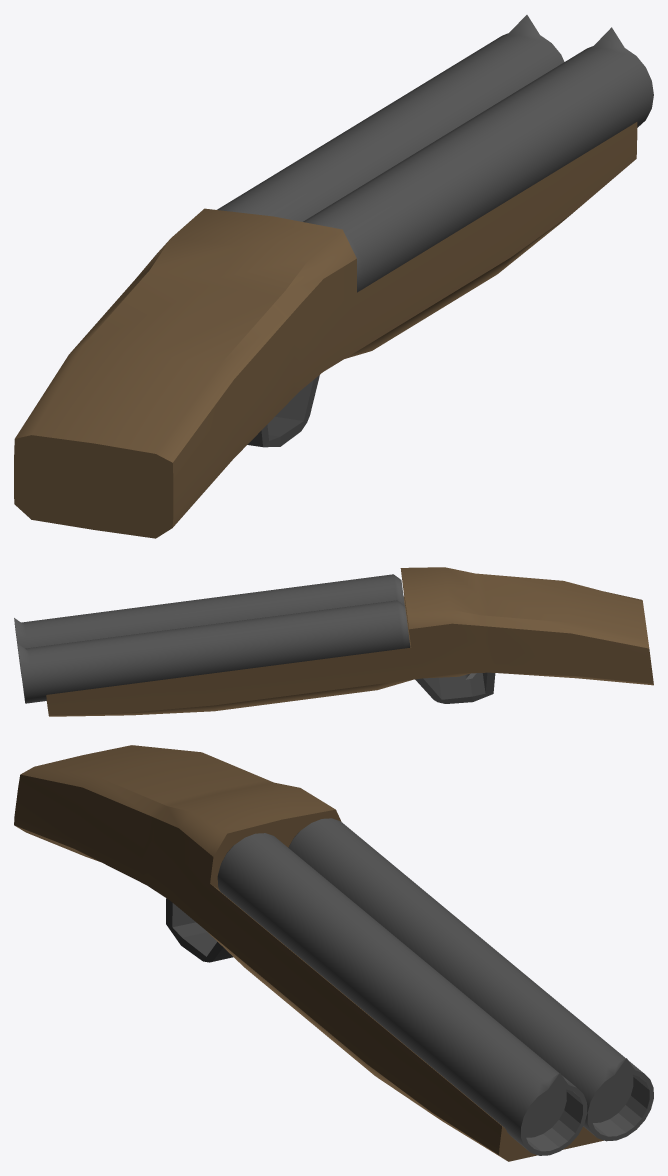
The model's file is AvaPistole.fbx.
3 renders of one model, top to bottom at view 1: azimuth 30°, elevation 25°; view 2: azimuth 150°, elevation 25°; view 3: azimuth 270°, elevation 25°, orthographic. The views are drawn at different scales.
Visible parts, largest first — view 1: pCube1, pCylinder1, pCylinder2; view 2: pCube1, pCylinder2, pCylinder1; view 3: pCube1, pCylinder1, pCylinder2.
Part boxes in pixels (x1,y1,x2,y2): pCube1: [14, 122, 637, 538]; pCylinder1: [303, 27, 653, 292]; pCylinder2: [217, 15, 564, 221]; pCube1: [46, 567, 653, 716]; pCylinder2: [17, 600, 410, 703]; pCylinder1: [14, 574, 404, 675]; pCube1: [14, 745, 603, 1161]; pCylinder1: [217, 833, 587, 1155]; pCylinder2: [288, 818, 653, 1141].
Bounding box in the file's own units: 1.6 × 0.324 × 1.21.
